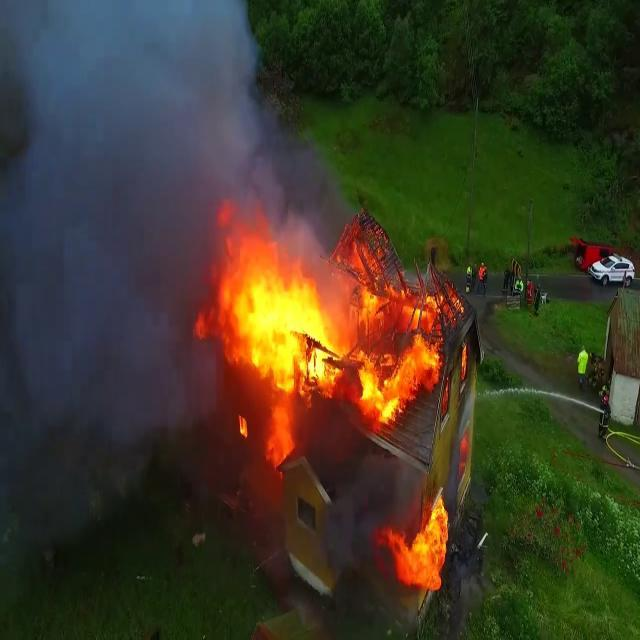Fire: (204, 227, 446, 440), (381, 486, 452, 598)
Smoke: (0, 1, 281, 488)
